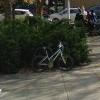Bicycle: (33, 39, 76, 74)
